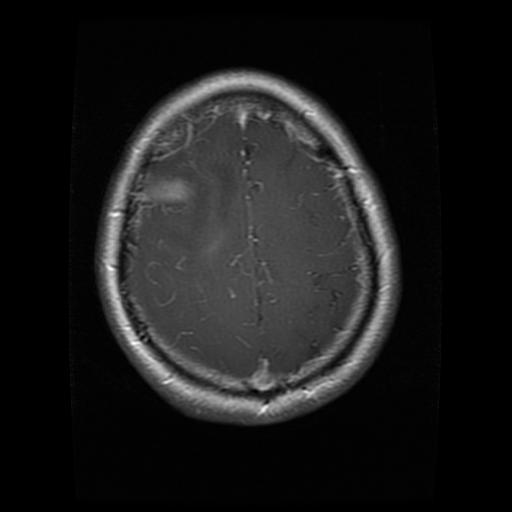Gliomia_tumour: (142, 174, 200, 211)
